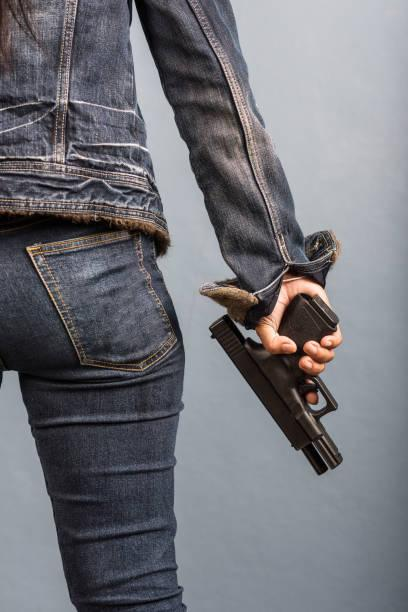weapon: (207, 289, 361, 475)
